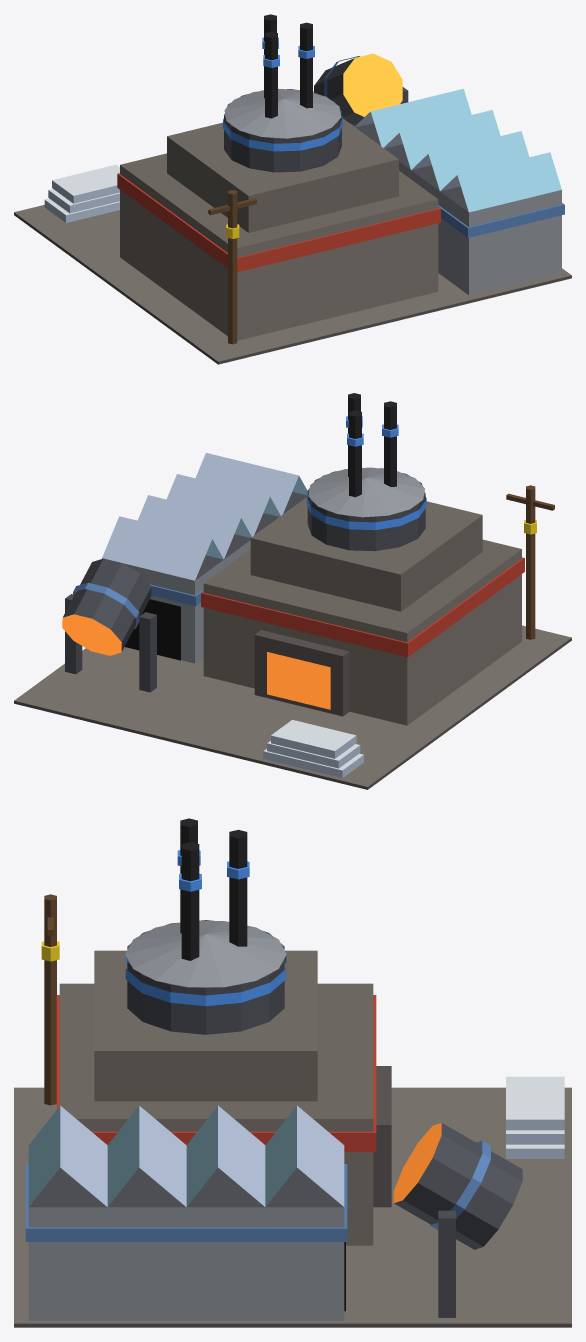
The model's file is smelter_3.glb.
3 renders of one model, top to bottom at view 1: azimuth 30°, elevation 25°; view 2: azimuth 150°, elevation 25°; view 3: azimuth 270°, elevation 25°, orthographic. The views are drawn at different scales.
Parts seen in each view (by area): view 1: smelter_3; view 2: smelter_3; view 3: smelter_3.
Boxes of the visible parts, x1,y1,x2,y2 form: smelter_3: [14, 14, 571, 364]; smelter_3: [14, 393, 571, 789]; smelter_3: [14, 818, 571, 1327].
Size of the model in its own units: 3.8 by 2.61 by 3.8.
